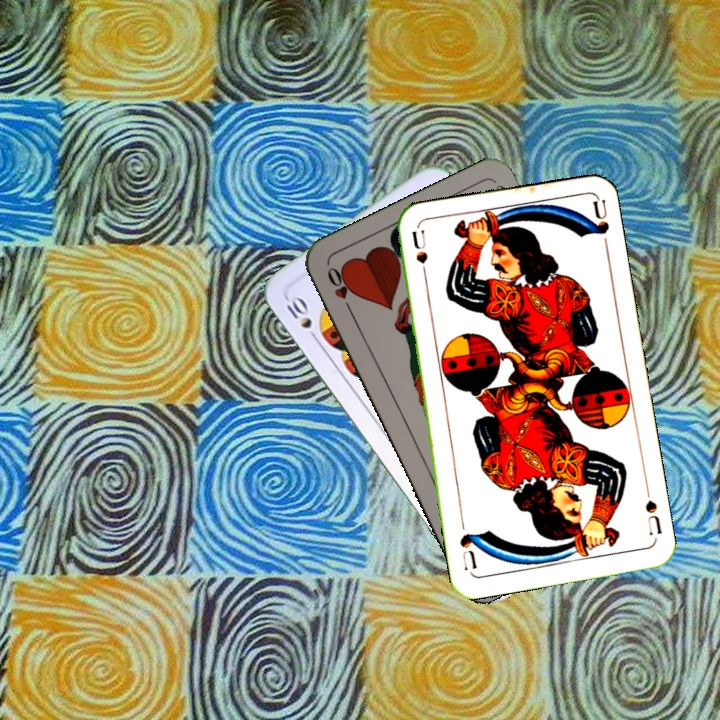HO: (323, 263, 356, 318)
S10: (282, 292, 322, 345)
SU: (407, 227, 431, 286), (641, 496, 664, 542)
